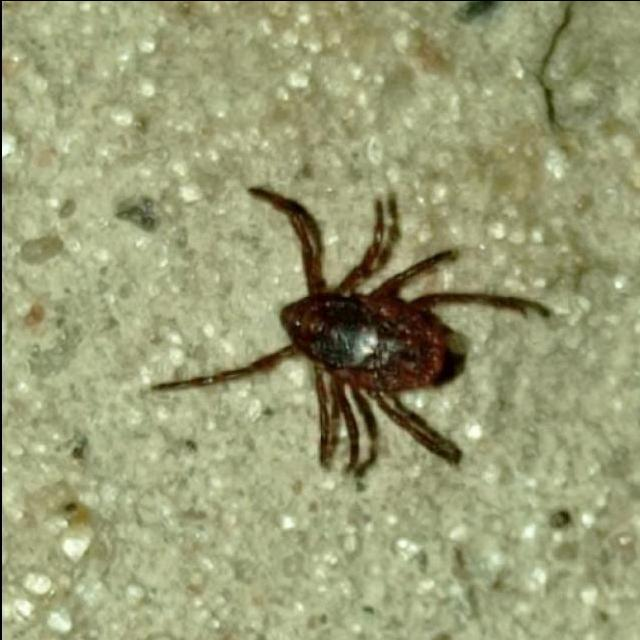Rhipicephalus Sanguineus-F: (159, 184, 545, 480)
